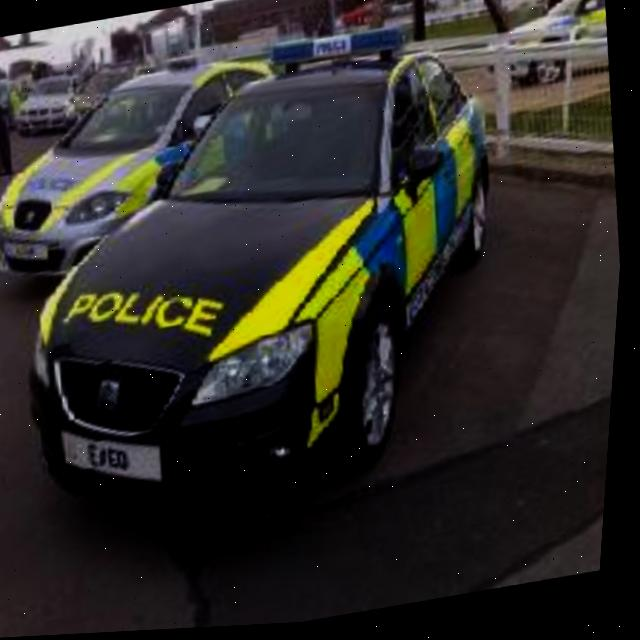emergency: (0, 2, 528, 552)
